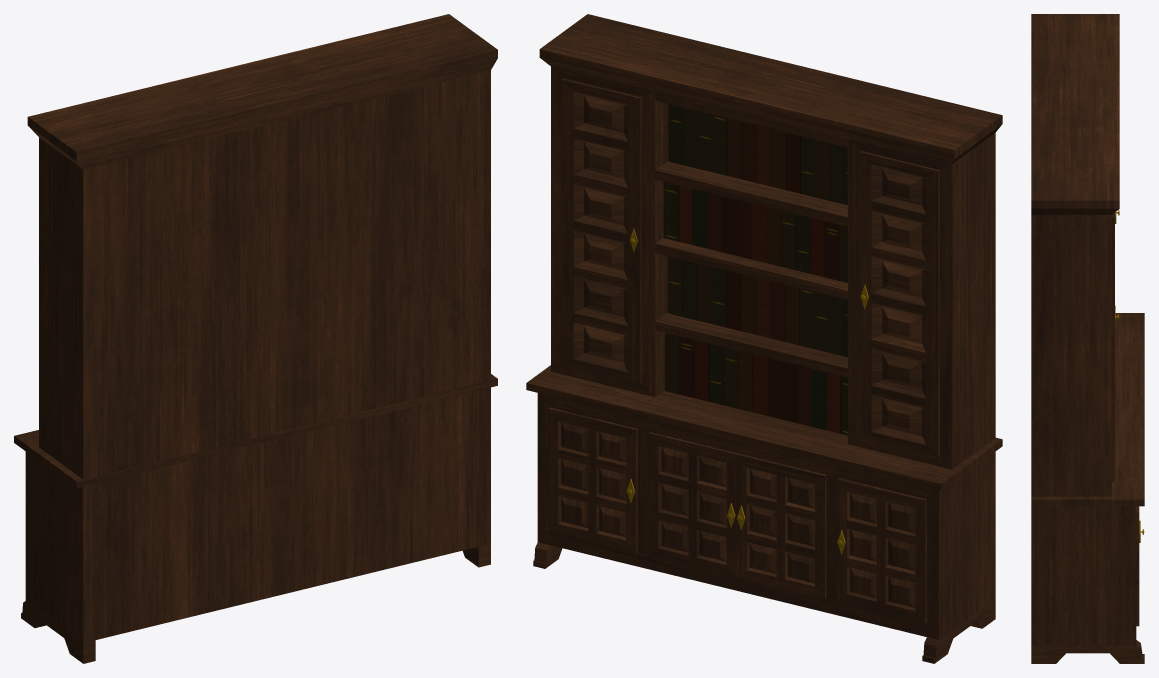
File: bookshelf.fbx
3 views of the same model, side by side, from view 1: azimuth 30°, elevation 25°; view 2: azimuth 150°, elevation 25°; view 3: azimuth 270°, elevation 25° (orthographic). The views are drawn at different scales.
Parts seen in each view (by area): view 1: bookshelf; view 2: bookshelf; view 3: bookshelf.
Boxes of the visible parts, x1,y1,x2,y2 form: bookshelf: (14,14,497,663); bookshelf: (526,14,1002,663); bookshelf: (1031,14,1144,663).
Bounding box in the file's own units: 195 × 227 × 50.
